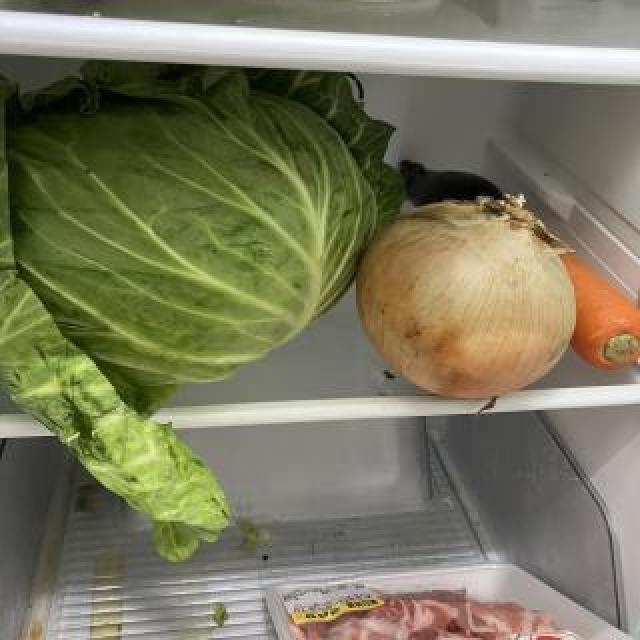cabbage: (1, 59, 411, 568)
carrot: (549, 245, 640, 377)
eggplant: (401, 159, 512, 213)
onion: (357, 193, 581, 417)
